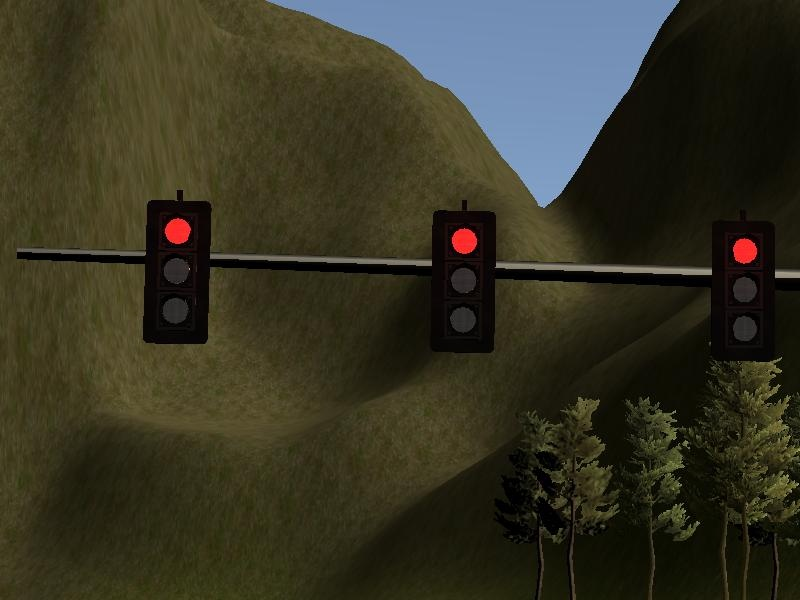RED: (432, 210, 497, 355), (144, 200, 209, 345), (710, 215, 775, 360)
